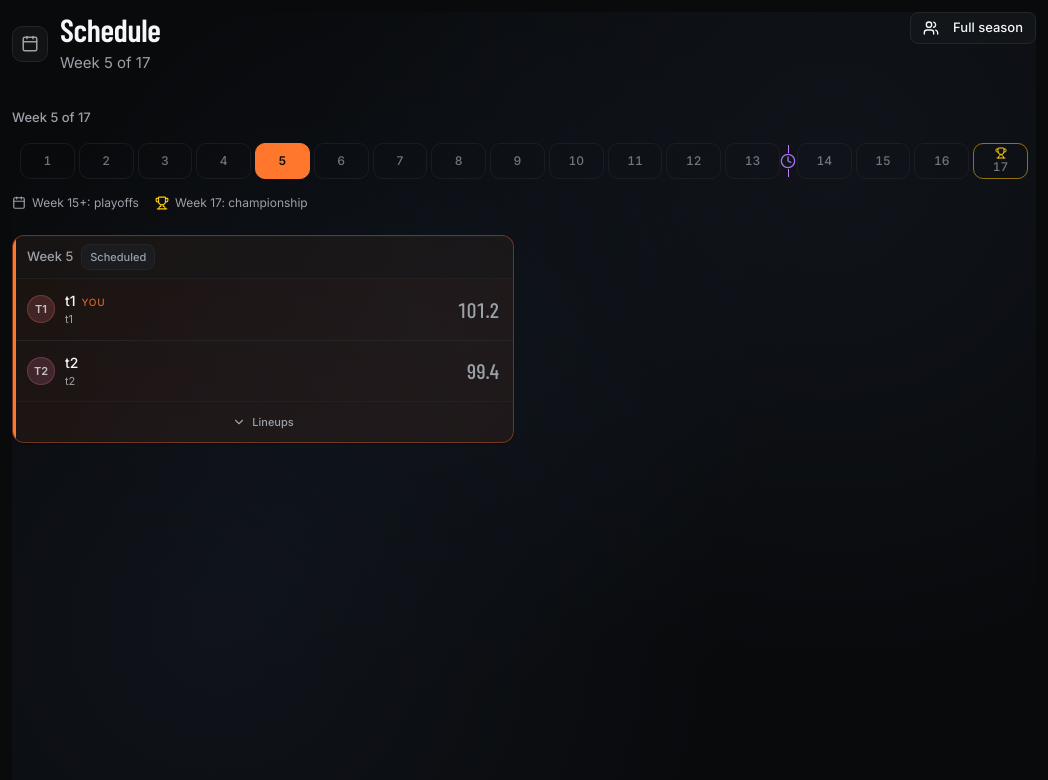
ScheduleManager lineups › shows the NFL opponent, and nothing at all for a team the calendar misses
Click the button "Lineups": x=263, y=422 [13,402,513,442]
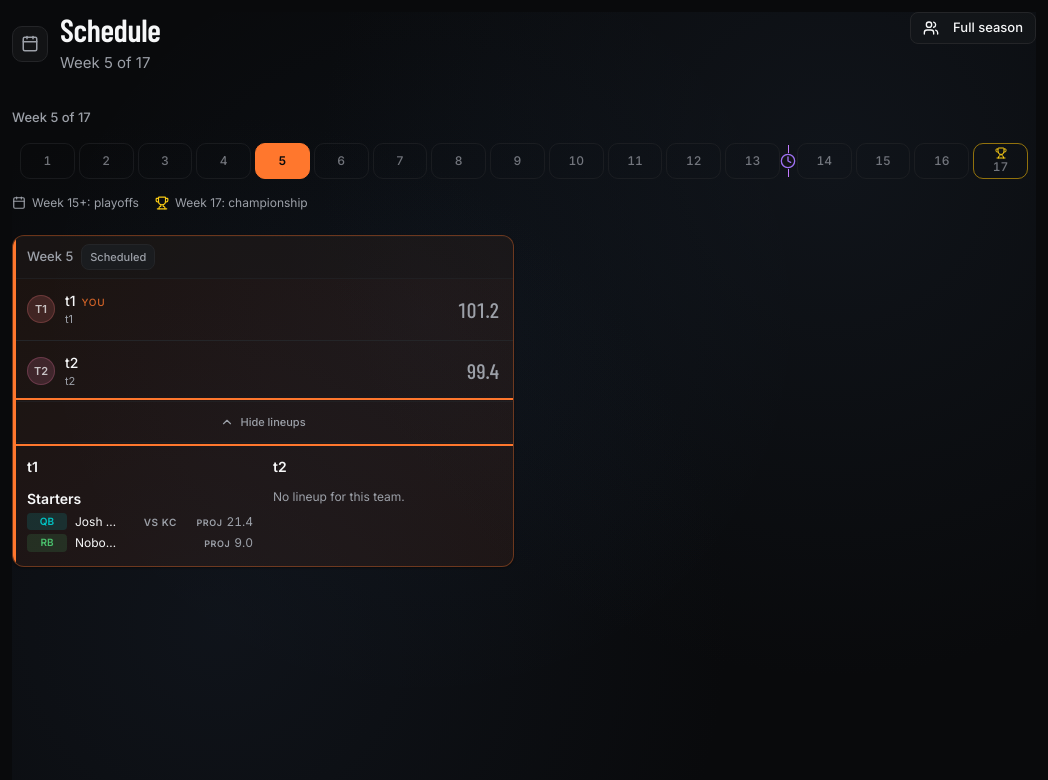
Expected: the text "vs KC" is shown, [144,516,177,528]
